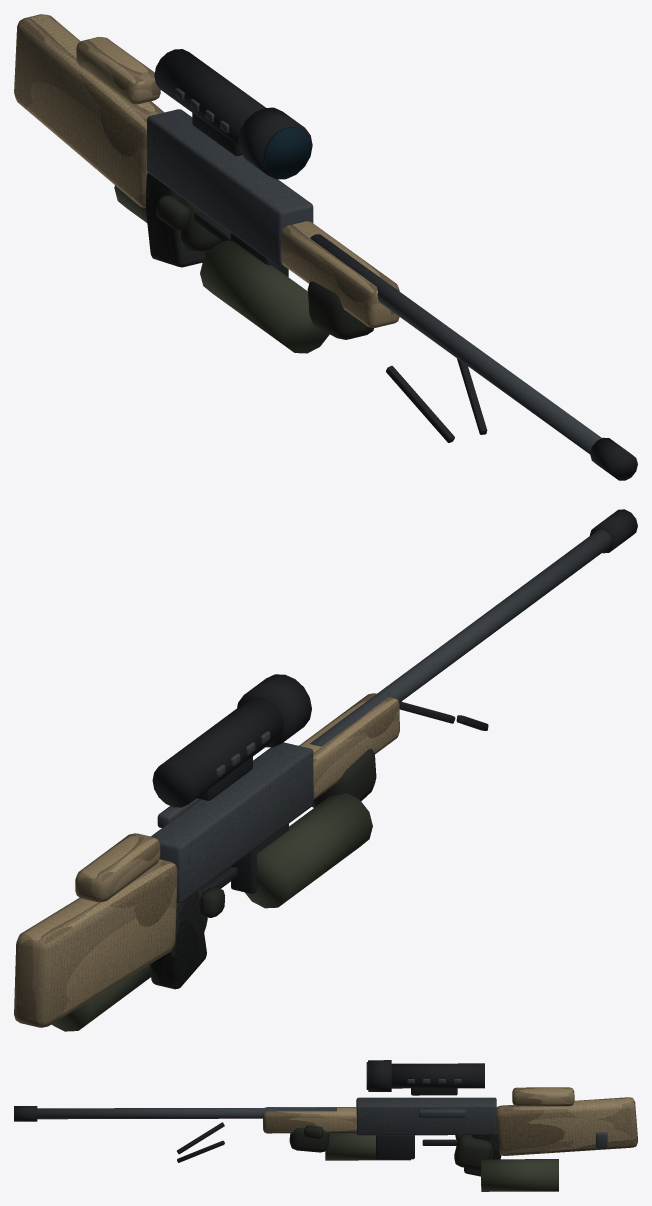
File: weapon_svd.glb
The picture shows the model from 3 angles, top to bottom: view 1: azimuth 30°, elevation 25°; view 2: azimuth 150°, elevation 25°; view 3: azimuth 270°, elevation 25°; orthographic projection. The views are drawn at different scales.
Visible parts, largest first — view 1: WeaponMesh; view 2: WeaponMesh; view 3: WeaponMesh.
Part boxes in pixels (bbox=[...]): WeaponMesh: bbox=[14, 14, 637, 480]; WeaponMesh: bbox=[14, 509, 637, 1031]; WeaponMesh: bbox=[14, 1060, 637, 1191].
Size of the model in its own units: 0.1707 by 0.3384 by 1.6.
7 materials, 3 textured.
